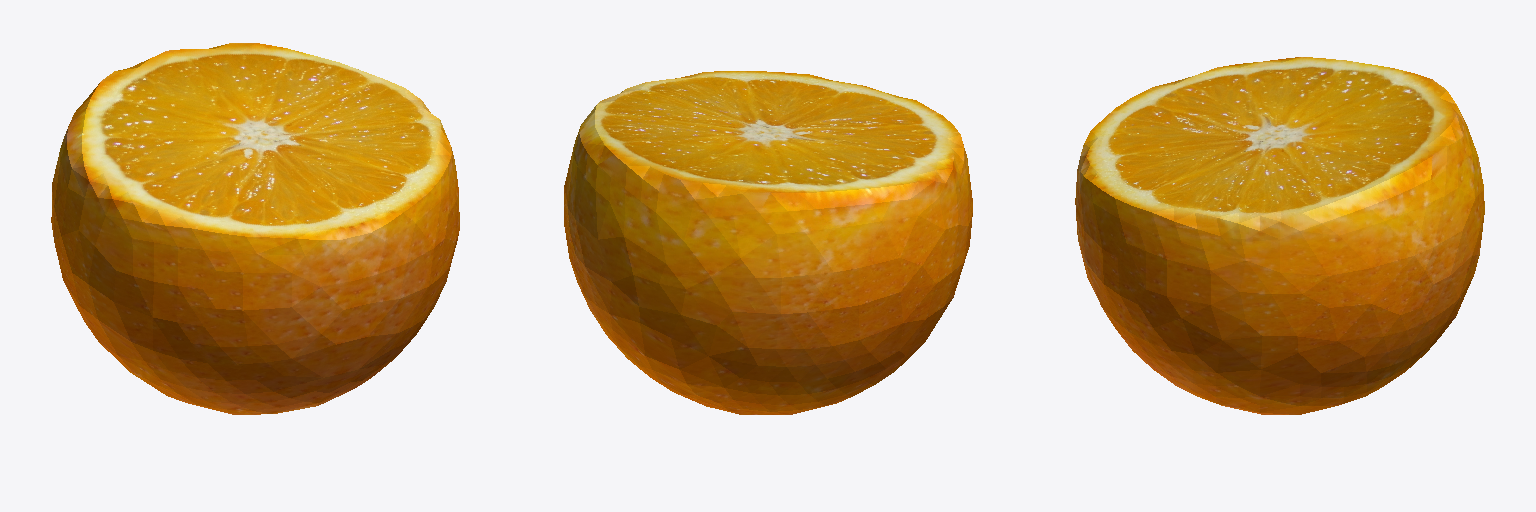
3 views of the same model, side by side, from view 1: azimuth 30°, elevation 25°; view 2: azimuth 150°, elevation 25°; view 3: azimuth 270°, elevation 25° (orthographic).
Parts seen in each view (by area): view 1: obj1; view 2: obj1; view 3: obj1.
Boxes of the visible parts, <box> form: obj1: <box>51,43,459,414</box>; obj1: <box>564,71,972,414</box>; obj1: <box>1075,57,1484,414</box>.
Size of the model in its own units: 27.8 by 21.09 by 27.78.
1 materials, 1 textured.